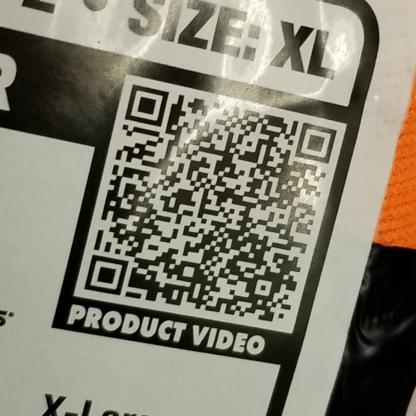qr: (79, 81, 337, 326)
